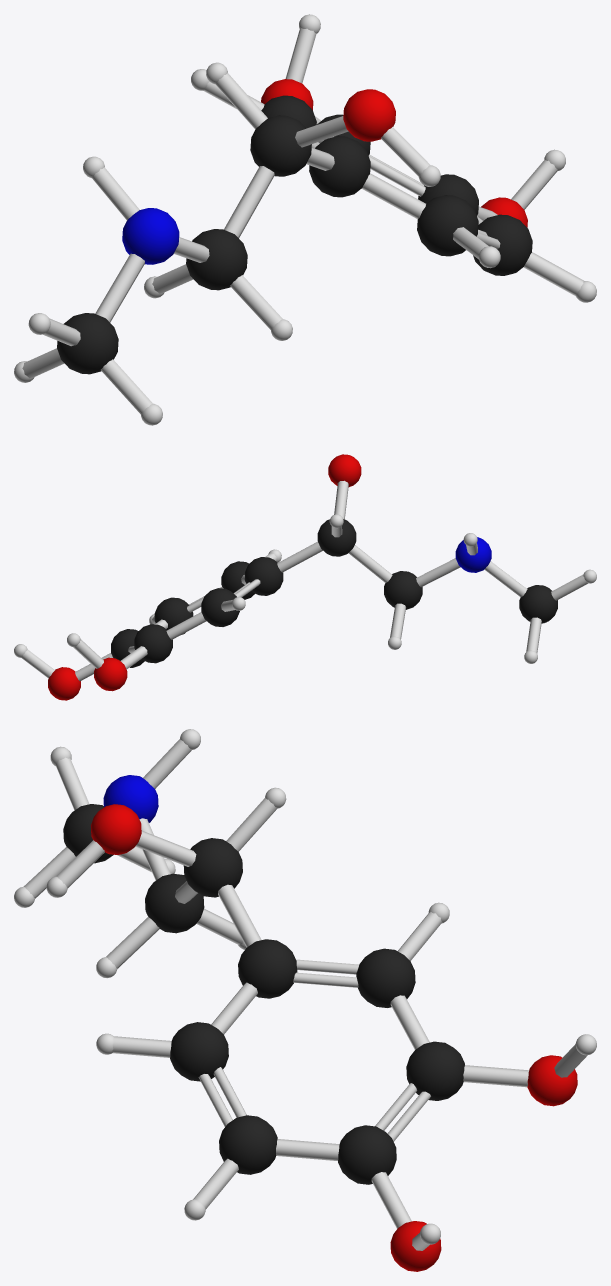
File: adrenaline.fbx
The picture shows the model from 3 angles, top to bottom: view 1: azimuth 30°, elevation 25°; view 2: azimuth 150°, elevation 25°; view 3: azimuth 270°, elevation 25°; orthographic projection. The views are drawn at different scales.
Visible parts, largest first — view 1: Group4, Group13, Group3, Group1, Group6, Group2, Group5, Group12, Group29, Group27, Group42, Group10 (+18 smaller); view 2: Group1, Group3, Group6, Group8, Group7, Group4, Group11, Group2, Group9, Group5, Group12, Group13 (+12 smaller); view 3: Group6, Group8, Group12, Group10, Group13, Group7, Group4, Group3, Group5, Group9, Group2, Group11 (+19 smaller).
Boxes of the visible parts, bbox=[...] form: Group4: bbox=[250, 115, 311, 176]; Group13: bbox=[417, 195, 478, 256]; Group3: bbox=[186, 229, 247, 290]; Group1: bbox=[57, 313, 118, 374]; Group6: bbox=[309, 136, 370, 197]; Group2: bbox=[122, 208, 179, 264]; Group5: bbox=[343, 89, 395, 141]; Group12: bbox=[473, 214, 532, 275]; Group29: bbox=[224, 166, 274, 237]; Group27: bbox=[95, 253, 144, 322]; Group42: bbox=[361, 173, 425, 219]; Group10: bbox=[418, 174, 478, 215]; Group1: bbox=[519, 585, 557, 623]; Group3: bbox=[384, 571, 422, 609]; Group6: bbox=[244, 557, 283, 595]; Group8: bbox=[134, 624, 172, 663]; Group7: bbox=[201, 588, 239, 626]; Group4: bbox=[317, 519, 356, 556]; Group11: bbox=[48, 667, 80, 700]; Group2: bbox=[455, 537, 491, 572]; Group9: bbox=[94, 657, 127, 691]; Group5: bbox=[328, 454, 361, 486]; Group12: bbox=[154, 597, 193, 634]; Group13: bbox=[221, 561, 254, 599]; Group6: bbox=[238, 939, 297, 998]; Group8: bbox=[406, 1041, 464, 1100]; Group12: bbox=[219, 1115, 277, 1174]; Group10: bbox=[338, 1125, 396, 1184]; Group13: bbox=[170, 1022, 228, 1081]; Group7: bbox=[356, 948, 415, 1007]; Group4: bbox=[183, 838, 242, 897]; Group3: bbox=[145, 873, 204, 933]; Group5: bbox=[91, 804, 141, 854]; Group9: bbox=[527, 1055, 577, 1106]; Group2: bbox=[103, 775, 158, 822]; Group11: bbox=[390, 1221, 441, 1271].
Bounding box in the file's own units: 741 × 332 × 535.
